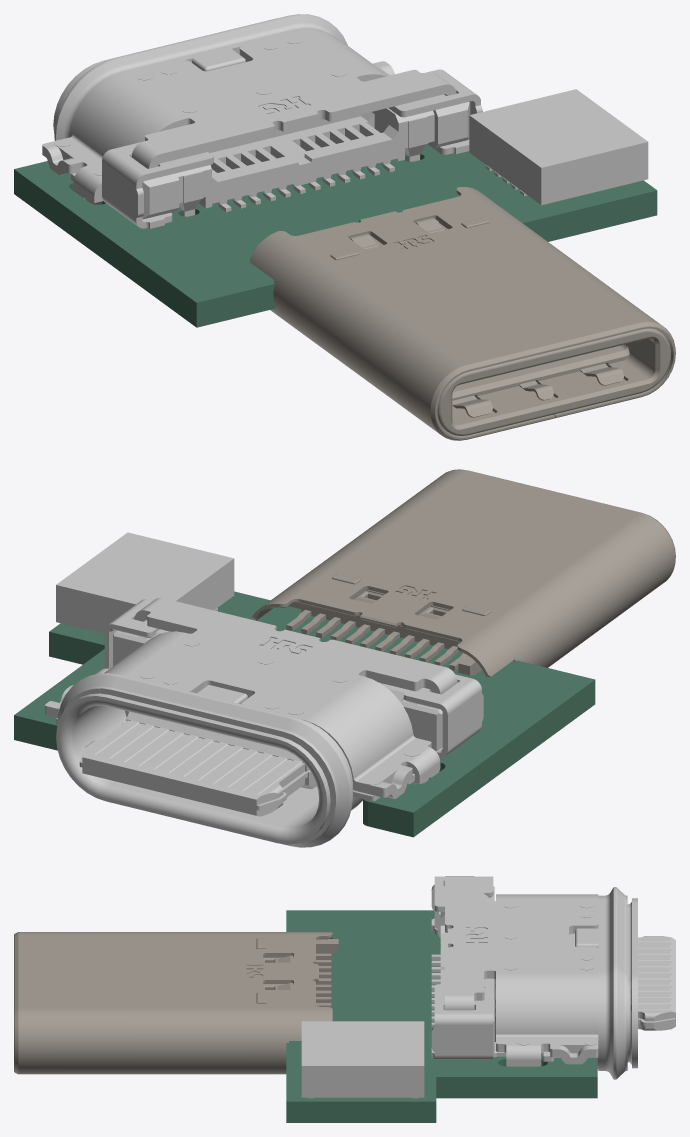
File: usb2_injector.gltf
3 views of the same model, one above another, from view 1: azimuth 30°, elevation 25°; view 2: azimuth 150°, elevation 25°; view 3: azimuth 270°, elevation 25° (orthographic). The views are drawn at different scales.
Bounding box in the file's own units: 0.0155 × 0.00415 × 0.0226.
